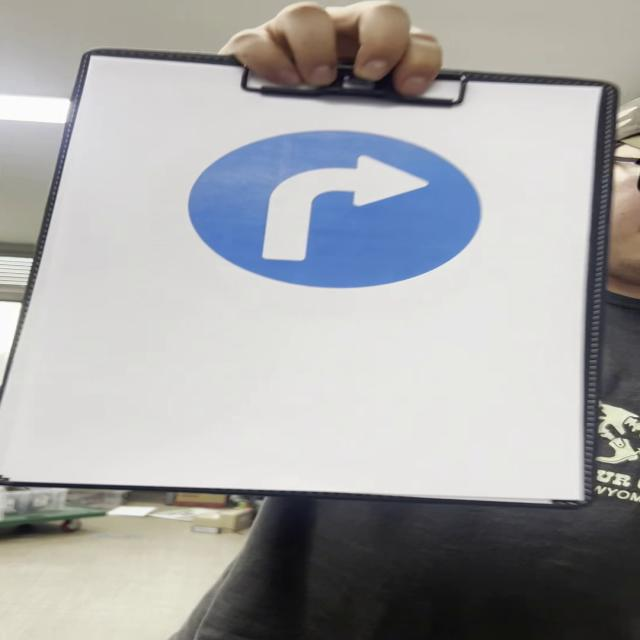right: (192, 131, 488, 289)
